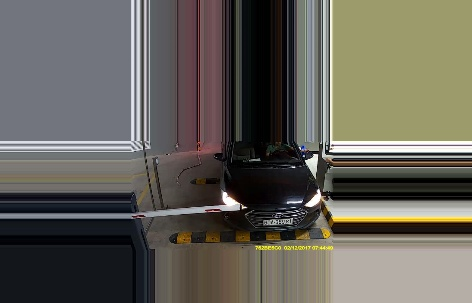plate: (262, 215, 296, 227)
